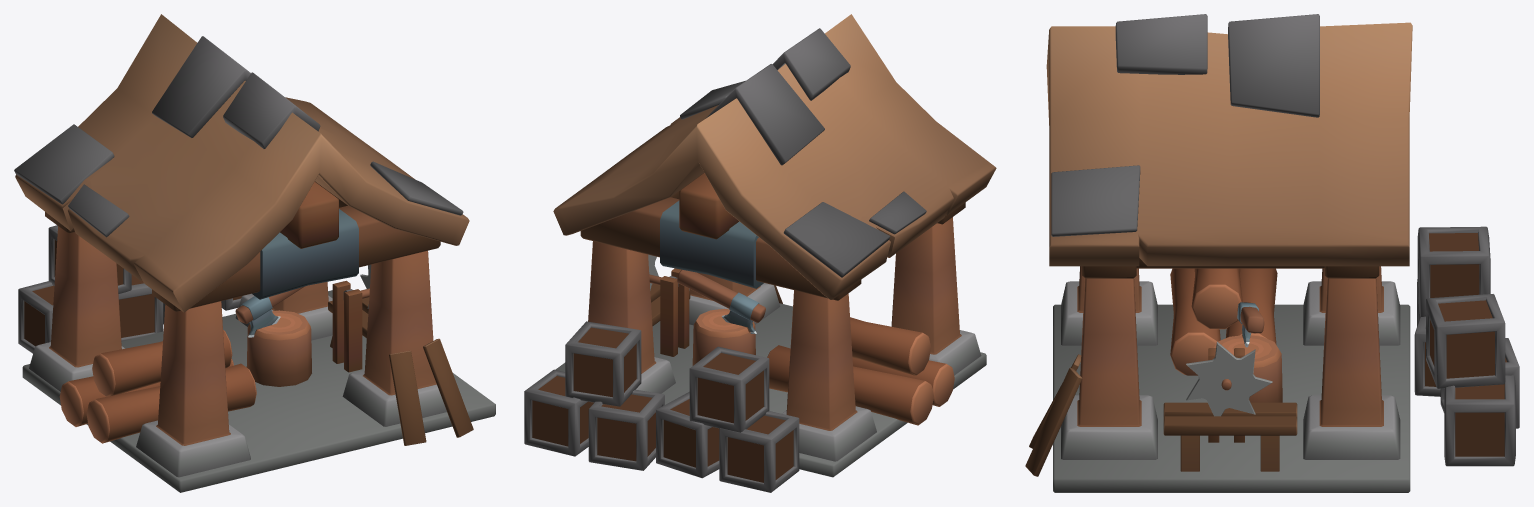
File: WoodWorkSpace_2.fbx
3 renders of one model, left to right at view 1: azimuth 30°, elevation 25°; view 2: azimuth 150°, elevation 25°; view 3: azimuth 270°, elevation 25°, orthographic. The views are drawn at different scales.
Visible parts, largest first — view 1: WoodWorkSpace_2; view 2: WoodWorkSpace_2; view 3: WoodWorkSpace_2.
Boxes of the visible parts, left/top/right/bottom form: WoodWorkSpace_2: left=14, top=14, right=495, bottom=492; WoodWorkSpace_2: left=524, top=14, right=996, bottom=492; WoodWorkSpace_2: left=1025, top=14, right=1519, bottom=492.
Size of the model in its own units: 318 by 318 by 355.
